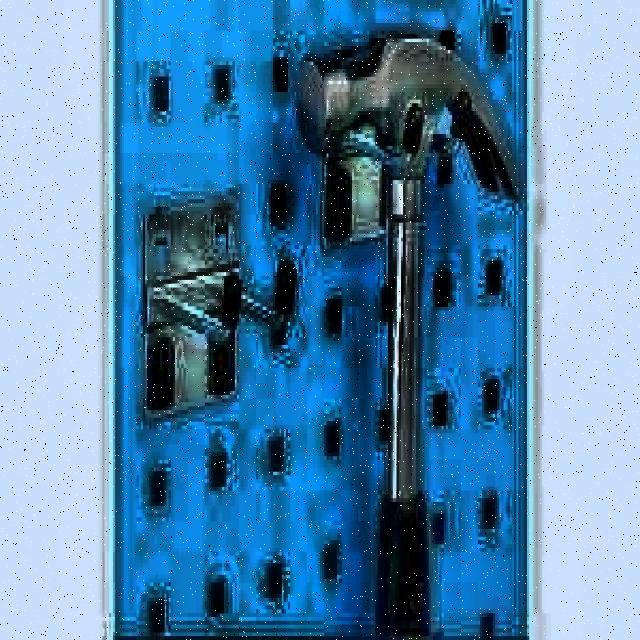hammer: (300, 35, 511, 635)
